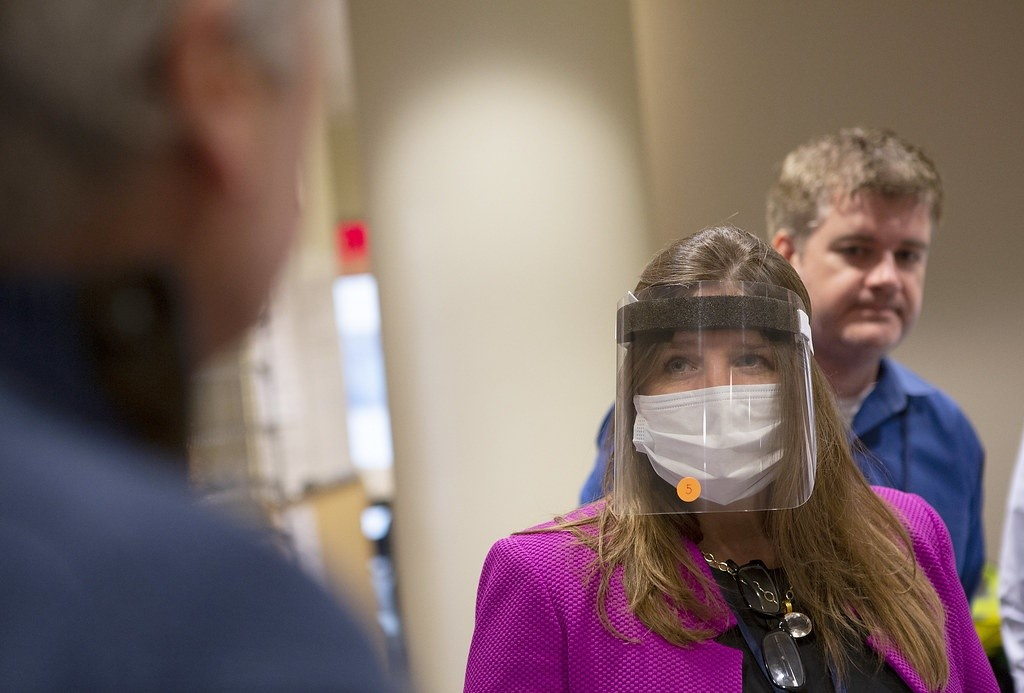face_no_mask: (768, 128, 933, 364)
face_with_mask: (615, 230, 824, 515)
